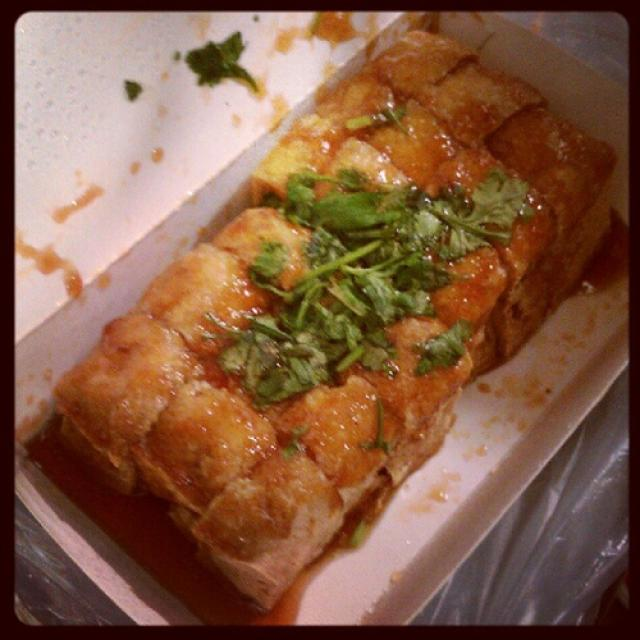豆腐料理: (22, 23, 623, 604)
